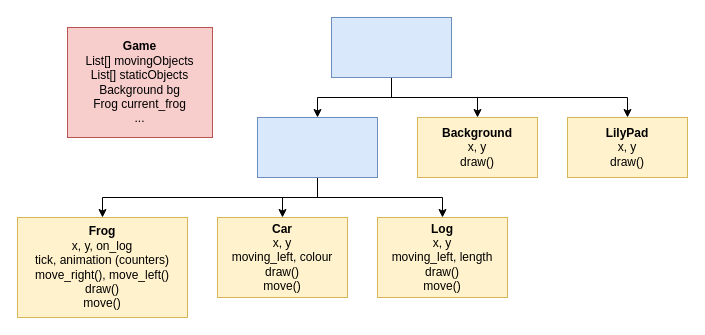
Image size: 705x335. Some labels were removed from this diagram. Each missing label, with the box of its shape:
GameObject x, y draw(): (330, 16, 452, 78)
MovingGameObject x, y draw() move(): (256, 116, 378, 178)
